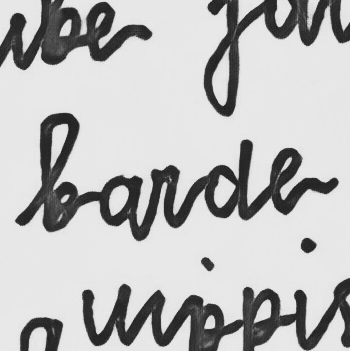a: (98, 171, 145, 241)
b: (35, 110, 83, 234)
d: (201, 136, 255, 224)
e: (268, 145, 317, 217)
r: (147, 163, 187, 230)
